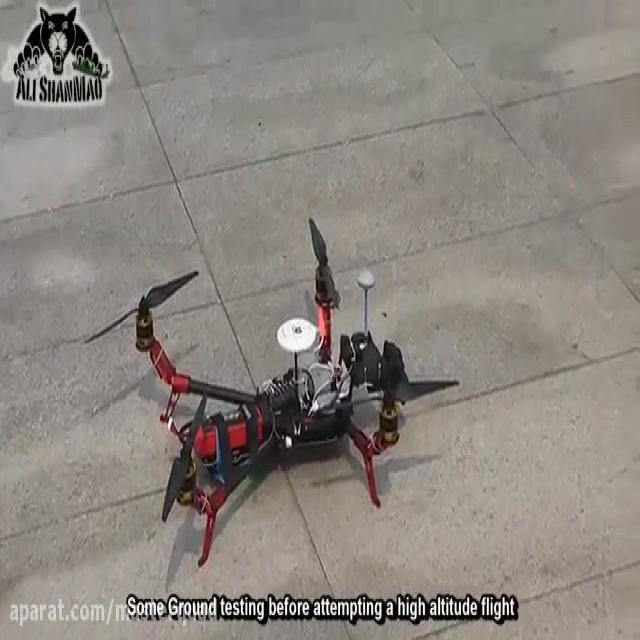drone: (78, 212, 462, 570)
